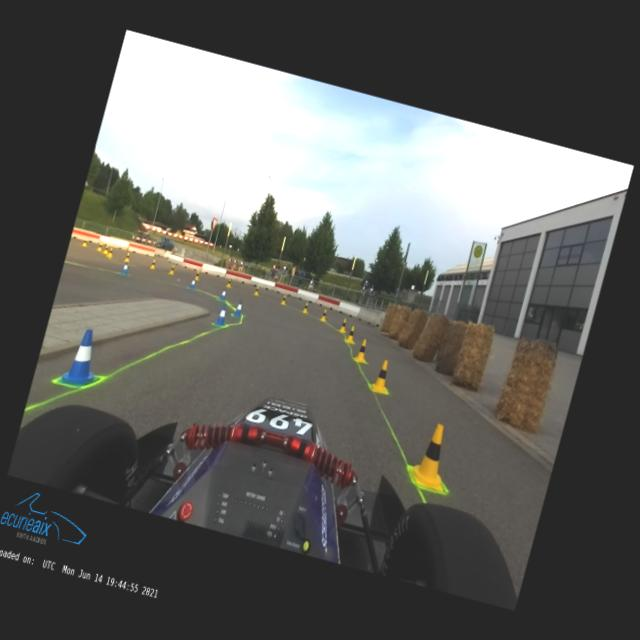blue_cone: (58, 325, 110, 391), (213, 302, 230, 326), (232, 299, 245, 317), (121, 261, 129, 274), (219, 288, 227, 300), (189, 278, 196, 289)
yellow_cone: (406, 420, 458, 492), (370, 358, 396, 393), (353, 337, 371, 363), (346, 326, 358, 344), (338, 318, 348, 332), (320, 308, 328, 321), (302, 302, 310, 314), (252, 285, 260, 295), (106, 247, 114, 257), (80, 237, 88, 247), (124, 251, 131, 262), (280, 294, 287, 304), (168, 264, 175, 274), (102, 244, 109, 254), (225, 278, 232, 287), (194, 270, 200, 280), (150, 259, 156, 269), (96, 242, 103, 250)
